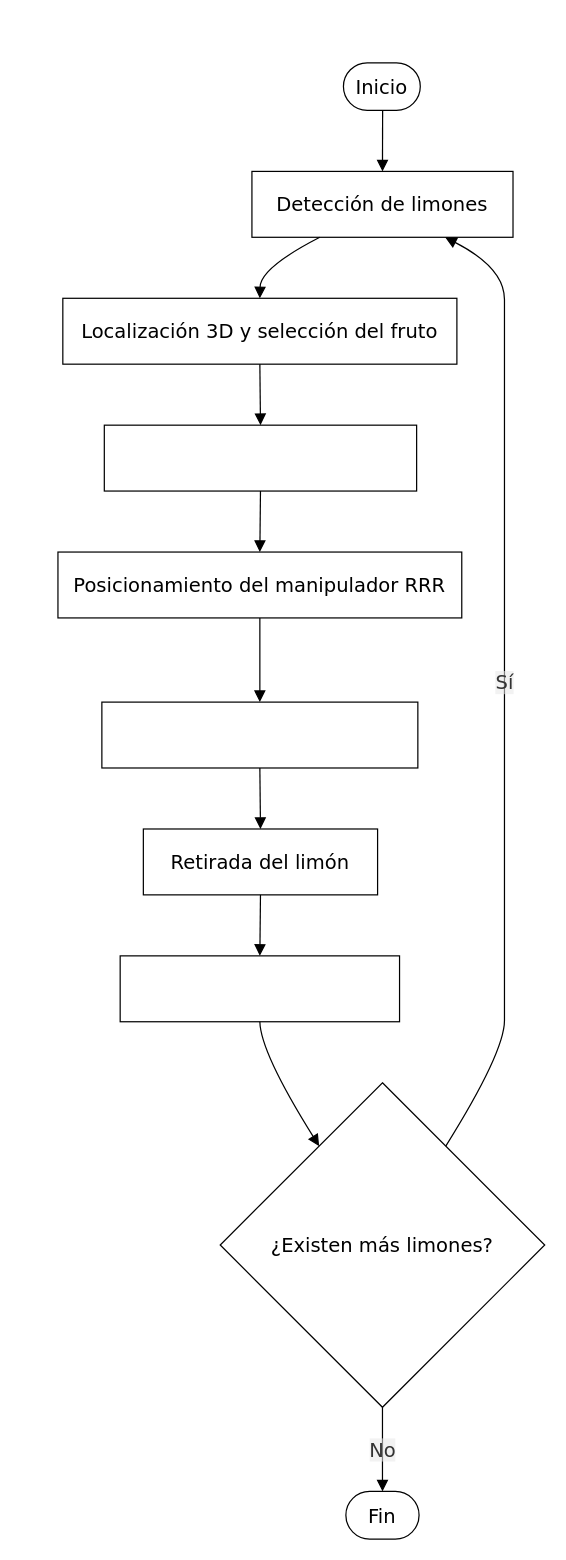
The diagram is 566 pixels wide and 1560 high, and some of its shapes have lost their labels. The shapes that lost their labels are listed below. From the top down, each one's centre as x and y in pixels, then its label:
(260,457): Navegación del robot móvil
(259,734): Sujeción y desprendimiento
(259,988): Clasificación y depósito
